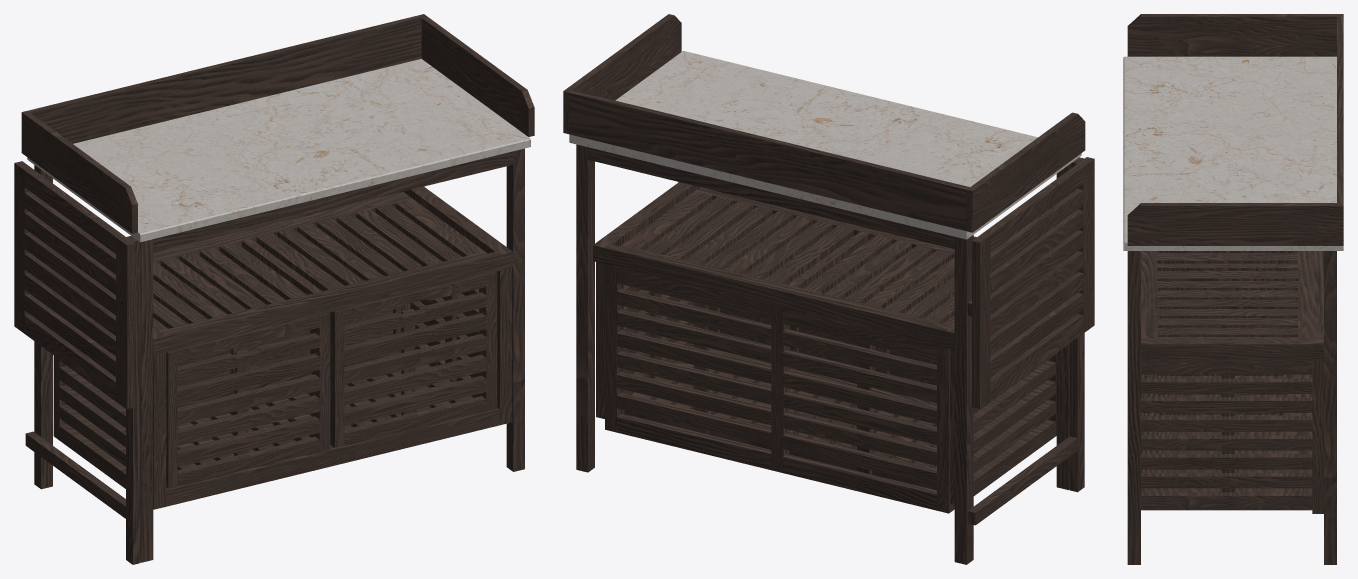
Rendered from workBenchM.gltf.
3 views of the same model, side by side, from view 1: azimuth 30°, elevation 25°; view 2: azimuth 150°, elevation 25°; view 3: azimuth 270°, elevation 25° (orthographic). The views are drawn at different scales.
Parts seen in each view (by area): view 1: workBench, stoneBench, door1, benchExtend, door, legExtend1; view 2: workBench, stoneBench, benchExtend, legExtend1, door1; view 3: workBench, stoneBench.
Part boxes in pixels (bbox=[...]): workBench: bbox=[21, 14, 534, 562]; stoneBench: bbox=[27, 59, 530, 242]; door1: bbox=[329, 272, 497, 447]; benchExtend: bbox=[14, 161, 134, 408]; door: bbox=[166, 312, 330, 488]; legExtend1: bbox=[25, 236, 140, 564]; workBench: bbox=[563, 14, 1085, 564]; stoneBench: bbox=[569, 51, 1081, 239]; benchExtend: bbox=[972, 157, 1094, 409]; legExtend1: bbox=[967, 157, 1084, 525]; door1: bbox=[708, 306, 875, 370]; workBench: bbox=[1127, 14, 1343, 564]; stoneBench: bbox=[1123, 56, 1343, 250].
Size of the model in its own units: 10.48 by 9.1 by 5.
2 materials, 2 textured.
